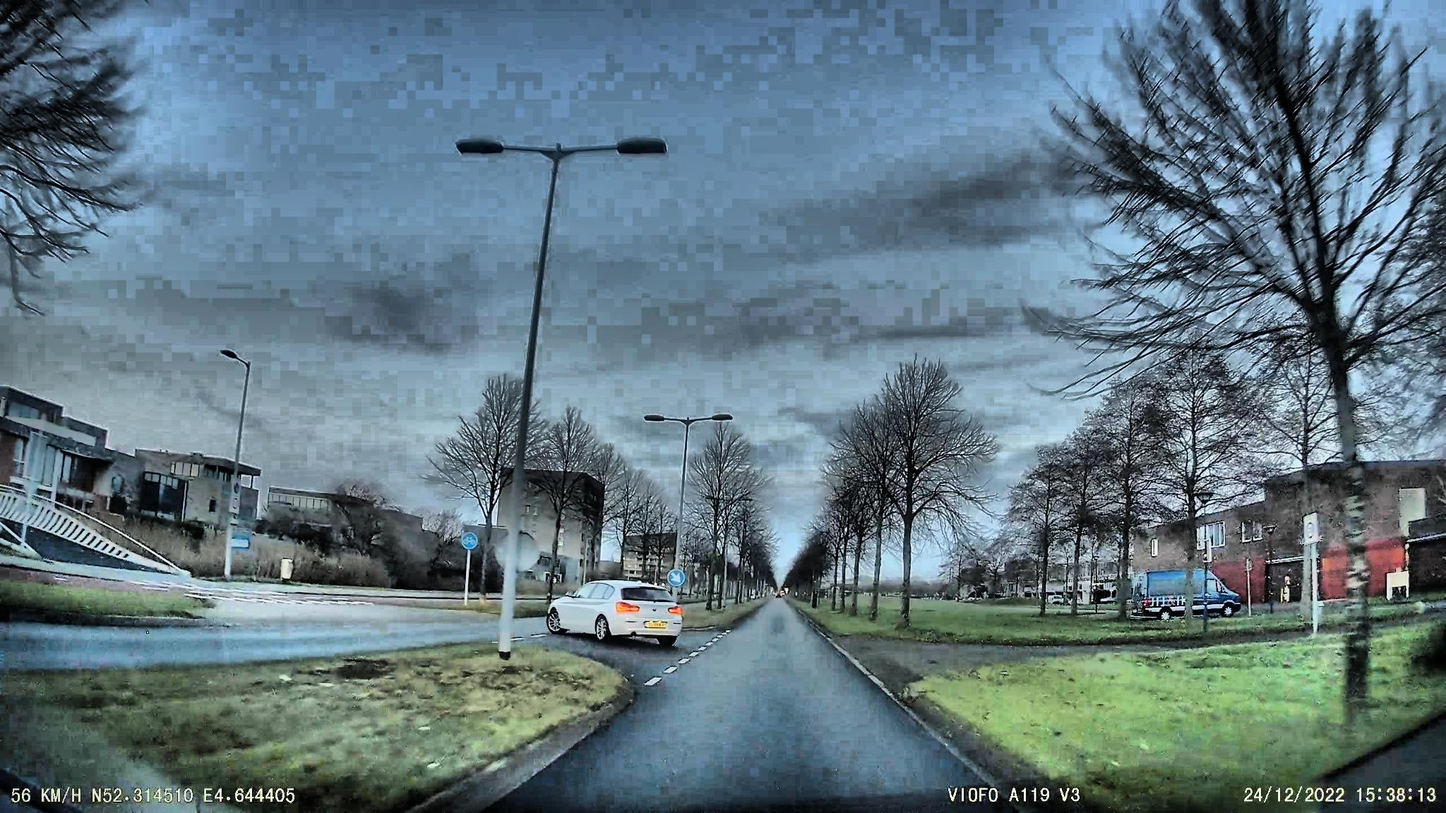Roads: (511, 598, 990, 813)
